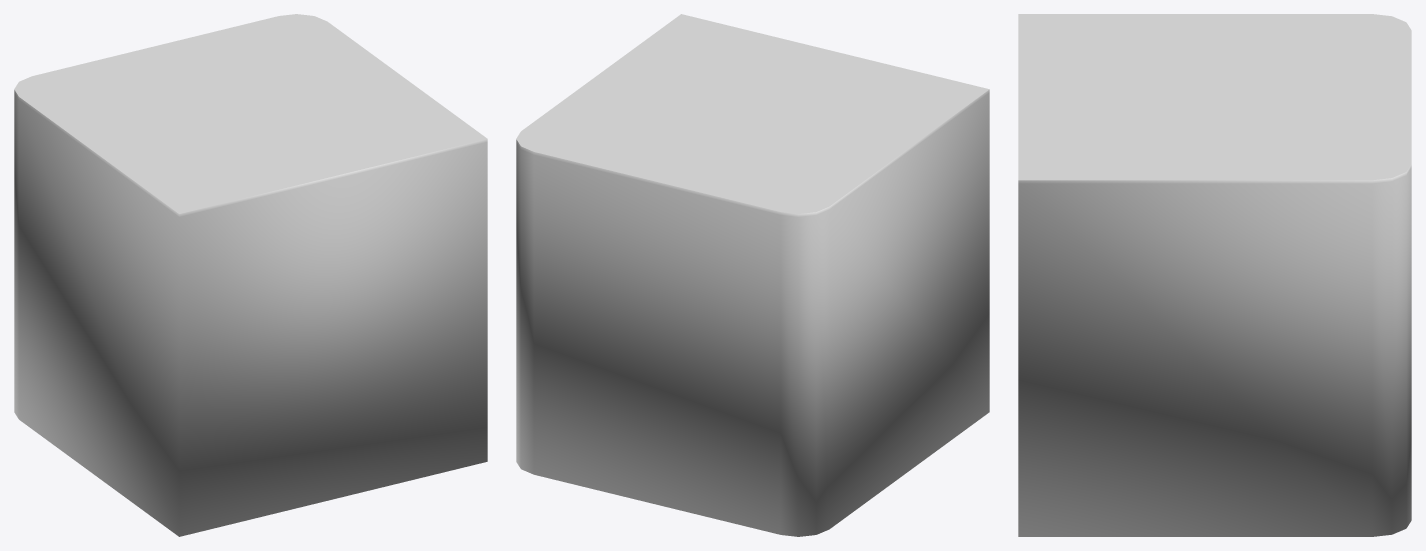
Rendered from Cube v2 Rounded.fbx.
The picture shows the model from 3 angles, left to right: view 1: azimuth 30°, elevation 25°; view 2: azimuth 150°, elevation 25°; view 3: azimuth 270°, elevation 25°; orthographic projection. The views are drawn at different scales.
Visible parts, largest first — view 1: Cube Rounded; view 2: Cube Rounded; view 3: Cube Rounded.
Boxes of the visible parts, x1=… form: Cube Rounded: x1=14, y1=14, x2=487, y2=536; Cube Rounded: x1=516, y1=14, x2=989, y2=536; Cube Rounded: x1=1018, y1=14, x2=1411, y2=536.
Size of the model in its own units: 200 by 200 by 200.
